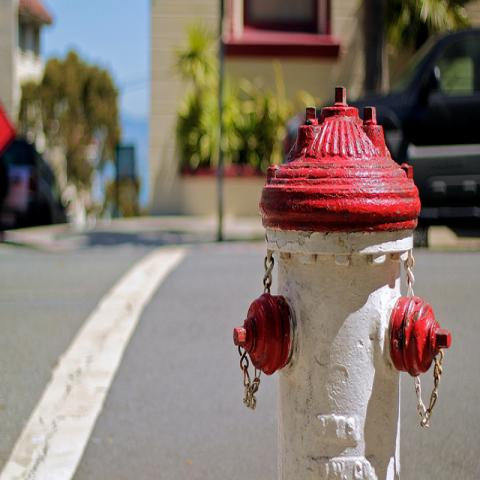car: (349, 24, 478, 239), (1, 96, 64, 228)
